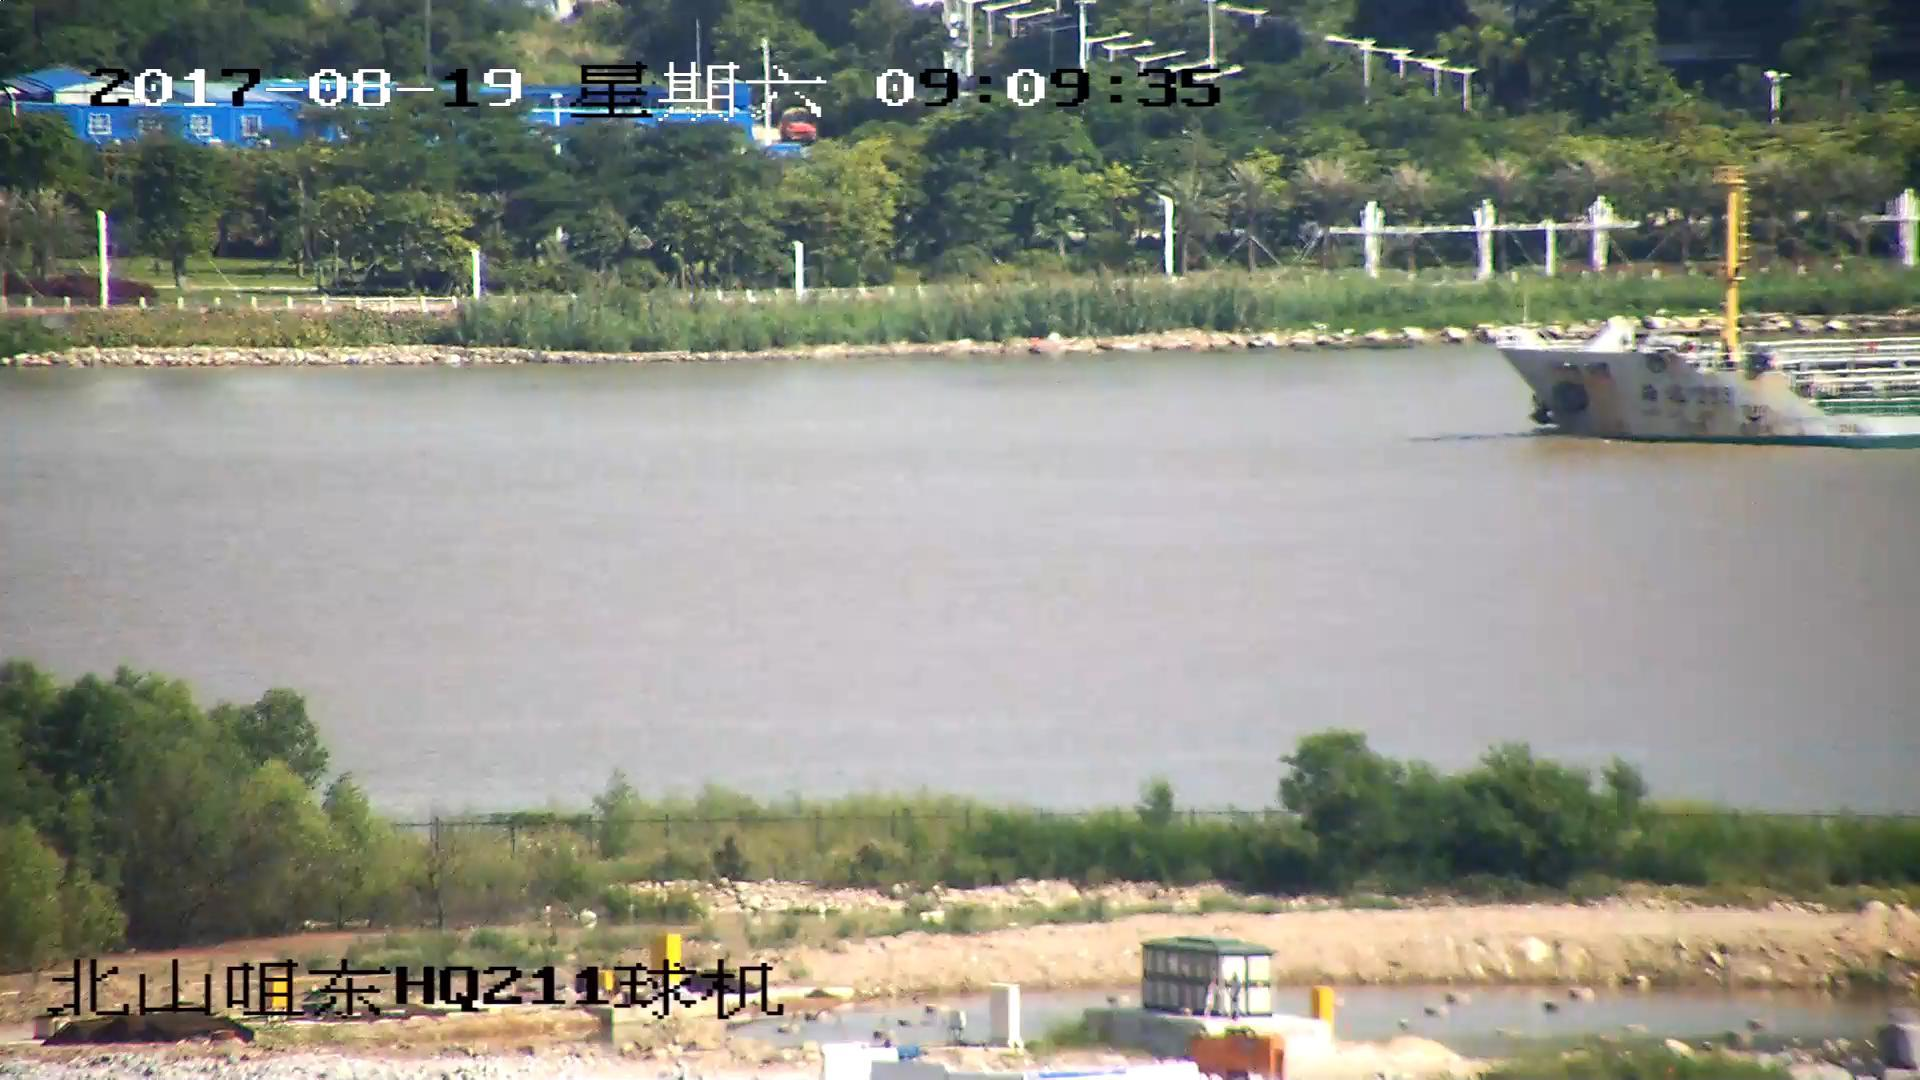Ship: (1484, 320, 1920, 448)
